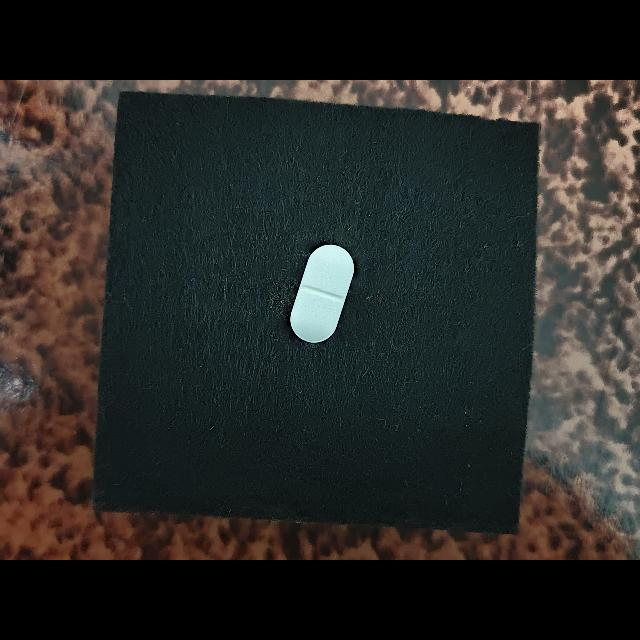Intact Pill: (290, 244, 354, 343)
